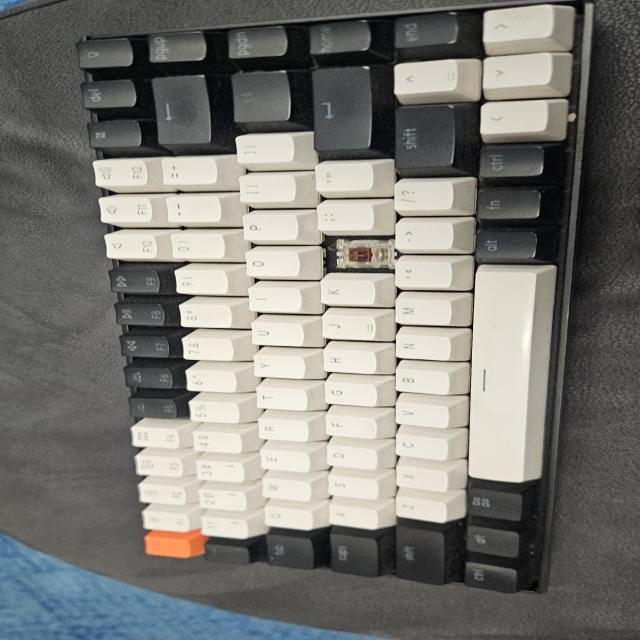C: (328, 237, 385, 276)
